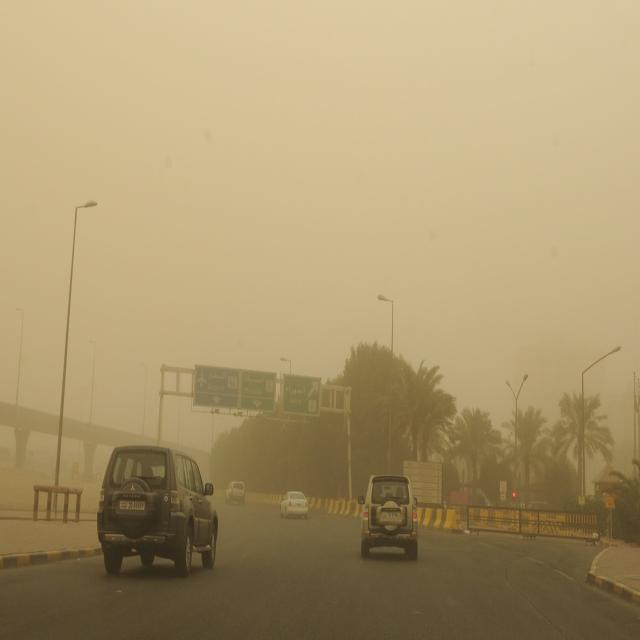car: (94, 444, 219, 579), (360, 474, 420, 559), (280, 491, 308, 518), (225, 480, 245, 505)
